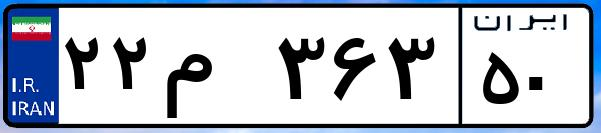0: (525, 38, 570, 115)
2: (57, 26, 110, 100), (110, 28, 158, 98)
3: (270, 28, 330, 110), (385, 28, 445, 110)
5: (475, 38, 525, 113)
6: (330, 28, 385, 110)
م: (158, 20, 270, 120)
